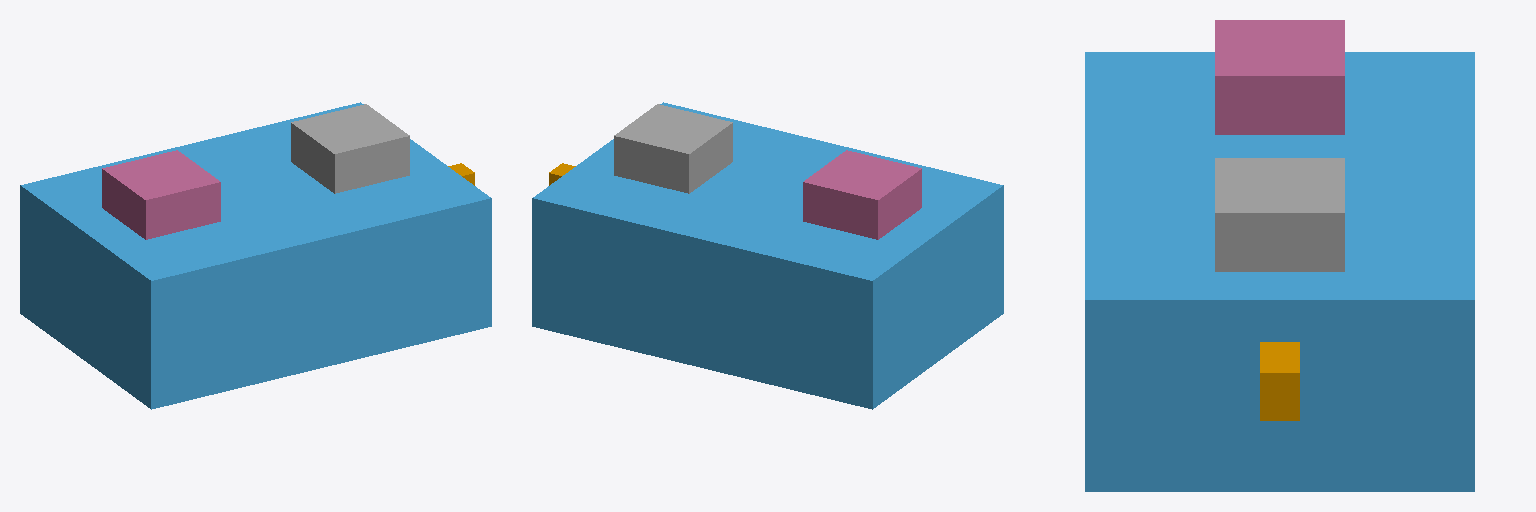
robot.urdf — pb_navigation_robot:
<?xml version="1.0" ?>
<robot name="pb_navigation_robot">
	<link name="base_footprint"/>
	<joint name="base_to_chassis" type="fixed">
		<origin rpy="0 0 0" xyz="0 0 0.076"/>
		<parent link="base_footprint"/>
		<child link="chassis"/>
	</joint>
	<link name="chassis">
		<inertial>
			<origin rpy="0 0 0" xyz="0 0 0.055"/>
			<mass value="15.0"/>
			<inertia ixx="0.093125" ixy="0" ixz="0" iyy="0.18312499999999998" iyz="0" izz="0.23399999999999999"/>
		</inertial>
		<visual>
			<origin rpy="0 0 0" xyz="0 0 0.045"/>
			<geometry>
				<box size="0.36 0.24 0.13"/>
			</geometry>
		</visual>
		<collision>
			<origin rpy="0 0 0" xyz="0 0 0.045"/>
			<geometry>
				<box size="0.36 0.24 0.13"/>
			</geometry>
		</collision>
		<collision>
			<origin rpy="0 0 0" xyz="0.208 0 0"/>
			<geometry>
				<box size="0.055 0.367 0.055"/>
			</geometry>
		</collision>
		<collision>
			<origin rpy="0 0 0" xyz="-0.208 0 0"/>
			<geometry>
				<box size="0.055 0.367 0.055"/>
			</geometry>
		</collision>
	</link>
	<joint name="front_left_wheel_joint" type="revolute">
		<origin rpy="0 0 0" xyz="0.207 0.194 0"/>
		<parent link="chassis"/>
		<child link="front_left_wheel"/>
		<axis xyz="0 1 0"/>
		<limit effort="1e+10" lower="-1.79769e+308" upper="1.79769e+308" velocity="1e+10"/>
	</joint>
	<link name="front_left_wheel">
		<origin rpy="0 0 0" xyz="0 0 0"/>
		<inertial>
			<origin rpy="1.5707 0 0" xyz="0 0 0"/>
			<mass value="0.4"/>
			<inertia ixx="0.0006426653333333334" ixy="0" ixz="0" iyy="0.0006426653333333334" iyz="0" izz="0.0011491280000000001"/>
		</inertial>
		<visual>
			<geometry>
				<mesh filename="file:///home/rainple/nav_test/third_party/pb2025_sources/rmoss_gz_resources/resource/models/rmua19_standard_robot/meshes/wheel_left.dae"/>
			</geometry>
		</visual>
		<collision>
			<origin rpy="1.5707 0 0" xyz="0 0 0"/>
			<geometry>
				<cylinder length="0.0452" radius="0.0758"/>
			</geometry>
		</collision>
	</link>
	<joint name="front_right_wheel_joint" type="revolute">
		<origin rpy="0 0 0" xyz="0.207 -0.194 0"/>
		<parent link="chassis"/>
		<child link="front_right_wheel"/>
		<axis xyz="0 1 0"/>
		<limit effort="1e+10" lower="-1.79769e+308" upper="1.79769e+308" velocity="1e+10"/>
	</joint>
	<link name="front_right_wheel">
		<origin rpy="0 0 0" xyz="0 0 0"/>
		<inertial>
			<origin rpy="1.5707 0 0" xyz="0 0 0"/>
			<mass value="0.4"/>
			<inertia ixx="0.0006426653333333334" ixy="0" ixz="0" iyy="0.0006426653333333334" iyz="0" izz="0.0011491280000000001"/>
		</inertial>
		<visual>
			<geometry>
				<mesh filename="file:///home/rainple/nav_test/third_party/pb2025_sources/rmoss_gz_resources/resource/models/rmua19_standard_robot/meshes/wheel_right.dae"/>
			</geometry>
		</visual>
		<collision>
			<origin rpy="1.5707 0 0" xyz="0 0 0"/>
			<geometry>
				<cylinder length="0.0452" radius="0.0758"/>
			</geometry>
		</collision>
	</link>
	<joint name="rear_left_wheel_joint" type="revolute">
		<origin rpy="0 0 0" xyz="-0.207 0.194 0"/>
		<parent link="chassis"/>
		<child link="rear_left_wheel"/>
		<axis xyz="0 1 0"/>
		<limit effort="1e+10" lower="-1.79769e+308" upper="1.79769e+308" velocity="1e+10"/>
	</joint>
	<link name="rear_left_wheel">
		<origin rpy="0 0 0" xyz="0 0 0"/>
		<inertial>
			<origin rpy="1.5707 0 0" xyz="0 0 0"/>
			<mass value="0.4"/>
			<inertia ixx="0.0006426653333333334" ixy="0" ixz="0" iyy="0.0006426653333333334" iyz="0" izz="0.0011491280000000001"/>
		</inertial>
		<visual>
			<geometry>
				<mesh filename="file:///home/rainple/nav_test/third_party/pb2025_sources/rmoss_gz_resources/resource/models/rmua19_standard_robot/meshes/wheel_right.dae"/>
			</geometry>
		</visual>
		<collision>
			<origin rpy="1.5707 0 0" xyz="0 0 0"/>
			<geometry>
				<cylinder length="0.0452" radius="0.0758"/>
			</geometry>
		</collision>
	</link>
	<joint name="rear_right_wheel_joint" type="revolute">
		<origin rpy="0 0 0" xyz="-0.207 -0.194 0"/>
		<parent link="chassis"/>
		<child link="rear_right_wheel"/>
		<axis xyz="0 1 0"/>
		<limit effort="1e+10" lower="-1.79769e+308" upper="1.79769e+308" velocity="1e+10"/>
	</joint>
	<link name="rear_right_wheel">
		<origin rpy="0 0 0" xyz="0 0 0"/>
		<inertial>
			<origin rpy="1.5707 0 0" xyz="0 0 0"/>
			<mass value="0.4"/>
			<inertia ixx="0.0006426653333333334" ixy="0" ixz="0" iyy="0.0006426653333333334" iyz="0" izz="0.0011491280000000001"/>
		</inertial>
		<visual>
			<geometry>
				<mesh filename="file:///home/rainple/nav_test/third_party/pb2025_sources/rmoss_gz_resources/resource/models/rmua19_standard_robot/meshes/wheel_left.dae"/>
			</geometry>
		</visual>
		<collision>
			<origin rpy="1.5707 0 0" xyz="0 0 0"/>
			<geometry>
				<cylinder length="0.0452" radius="0.0758"/>
			</geometry>
		</collision>
	</link>
	<joint name="front_rplidar_a2_joint" type="fixed">
		<origin rpy="0 0 0" xyz="-0.10 0 0.11"/>
		<parent link="chassis"/>
		<child link="front_rplidar_a2"/>
	</joint>
	<link name="front_rplidar_a2">
		<origin rpy="0 0 0" xyz="0 0 0"/>
		<inertial>
			<origin rpy="0 0 0" xyz="0 0 0.02"/>
			<mass value="0.15"/>
			<inertia ixx="9.999999999999999e-05" ixy="0" ixz="0" iyy="9.999999999999999e-05" iyz="0" izz="0.00016"/>
		</inertial>
		<visual>
			<origin rpy="0 0 0" xyz="0 0 0.02"/>
			<geometry>
				<box size="0.08 0.08 0.04"/>
			</geometry>
		</visual>
		<collision>
			<origin rpy="0 0 0" xyz="0 0 0.02"/>
			<geometry>
				<box size="0.08 0.08 0.04"/>
			</geometry>
		</collision>
	</link>
	<joint name="front_livox_joint" type="fixed">
		<origin rpy="0 0 0" xyz="0.10 0 0.11"/>
		<parent link="chassis"/>
		<child link="front_mid360"/>
	</joint>
	<link name="front_mid360">
		<origin rpy="0 0 0" xyz="0 0 0"/>
		<inertial>
			<origin rpy="0 0 0" xyz="0 0 0.02"/>
			<mass value="0.15"/>
			<inertia ixx="9.999999999999999e-05" ixy="0" ixz="0" iyy="9.999999999999999e-05" iyz="0" izz="0.00016"/>
		</inertial>
		<visual>
			<origin rpy="0 0 0" xyz="0 0 0.02"/>
			<geometry>
				<box size="0.08 0.08 0.04"/>
			</geometry>
		</visual>
		<collision>
			<origin rpy="0 0 0" xyz="0 0 0.02"/>
			<geometry>
				<box size="0.08 0.08 0.04"/>
			</geometry>
		</collision>
	</link>
	<joint name="front_industrial_camera_joint" type="fixed">
		<origin rpy="0 0 0" xyz="0.16 0 0.065"/>
		<parent link="chassis"/>
		<child link="front_industrial_camera"/>
	</joint>
	<link name="front_industrial_camera">
		<origin rpy="0 0 0" xyz="0 0 0"/>
		<inertial>
			<origin rpy="0 0 0" xyz="0.025 0 0"/>
			<mass value="0.05"/>
			<inertia ixx="7.141666666666669e-06" ixy="0" ixz="0" iyy="3.1204166666666675e-05" iyz="0" izz="2.9270833333333334e-05"/>
		</inertial>
		<visual>
			<origin rpy="0 0 0" xyz="0.025 0 0"/>
			<geometry>
				<box size="0.08 0.025 0.033"/>
			</geometry>
		</visual>
		<collision>
			<origin rpy="0 0 0" xyz="0.025 0 0"/>
			<geometry>
				<box size="0.08 0.025 0.033"/>
			</geometry>
		</collision>
	</link>
	<joint name="front_industrial_camera_optical_joint" type="fixed">
		<origin rpy="-1.5707963267948966 0 -1.5707963267948966" xyz="0 0 0"/>
		<parent link="front_industrial_camera"/>
		<child link="front_industrial_camera_optical_frame"/>
	</joint>
	<link name="front_industrial_camera_optical_frame">
		<origin rpy="0 0 0" xyz="0 0 0"/>
	</link>
</robot>

--- Facts derived from the render (not from the file) ---
3 views of the same robot in one strip: view 1: azimuth 30°, elevation 25°; view 2: azimuth 150°, elevation 25°; view 3: azimuth 270°, elevation 25° (orthographic).
Robot: pb_navigation_robot — 10 links, 9 joints (4 revolute, 5 fixed); root link base_footprint; default pose: every joint at zero.
Links seen in each view (by area): view 1: chassis, front_rplidar_a2, front_mid360; view 2: chassis, front_rplidar_a2, front_mid360; view 3: chassis, front_rplidar_a2, front_mid360, front_industrial_camera.
Link boxes in pixels (x1,y1,x2,y2): chassis: (20,102,491,409); front_rplidar_a2: (102,150,220,239); front_mid360: (291,104,409,193); chassis: (532,102,1003,409); front_rplidar_a2: (803,150,921,239); front_mid360: (614,104,732,193); chassis: (1085,52,1474,491); front_rplidar_a2: (1215,20,1344,134); front_mid360: (1215,158,1344,271); front_industrial_camera: (1260,342,1299,420).
Bounding box of the posed robot: 0.405 × 0.24 × 0.17 m (x, y, z).
Geometry: only primitive shapes (box / cylinder / sphere) drawn; not drawn: 4 mesh visuals (reference in a form the renderer does not follow).
